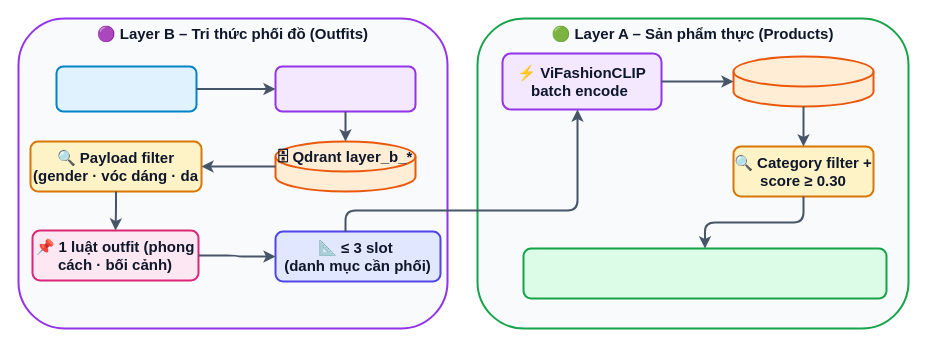
Image size: 926x346. Some labels were removed from this diagram. The shapes that lost their labels are listed below. From the top down, each one's centre as x and y in pixels, then its label:
At pixel 126 88: "👤 Truy vấn + hồ sơ người dùng".
At pixel 345 88: "⚡ BGE-M3 encode text".
At pixel 803 81: "🗄 Qdrant fashion_products_*".
At pixel 704 273: "🛍 SP chính + thay thế → Product cards + LLM".
